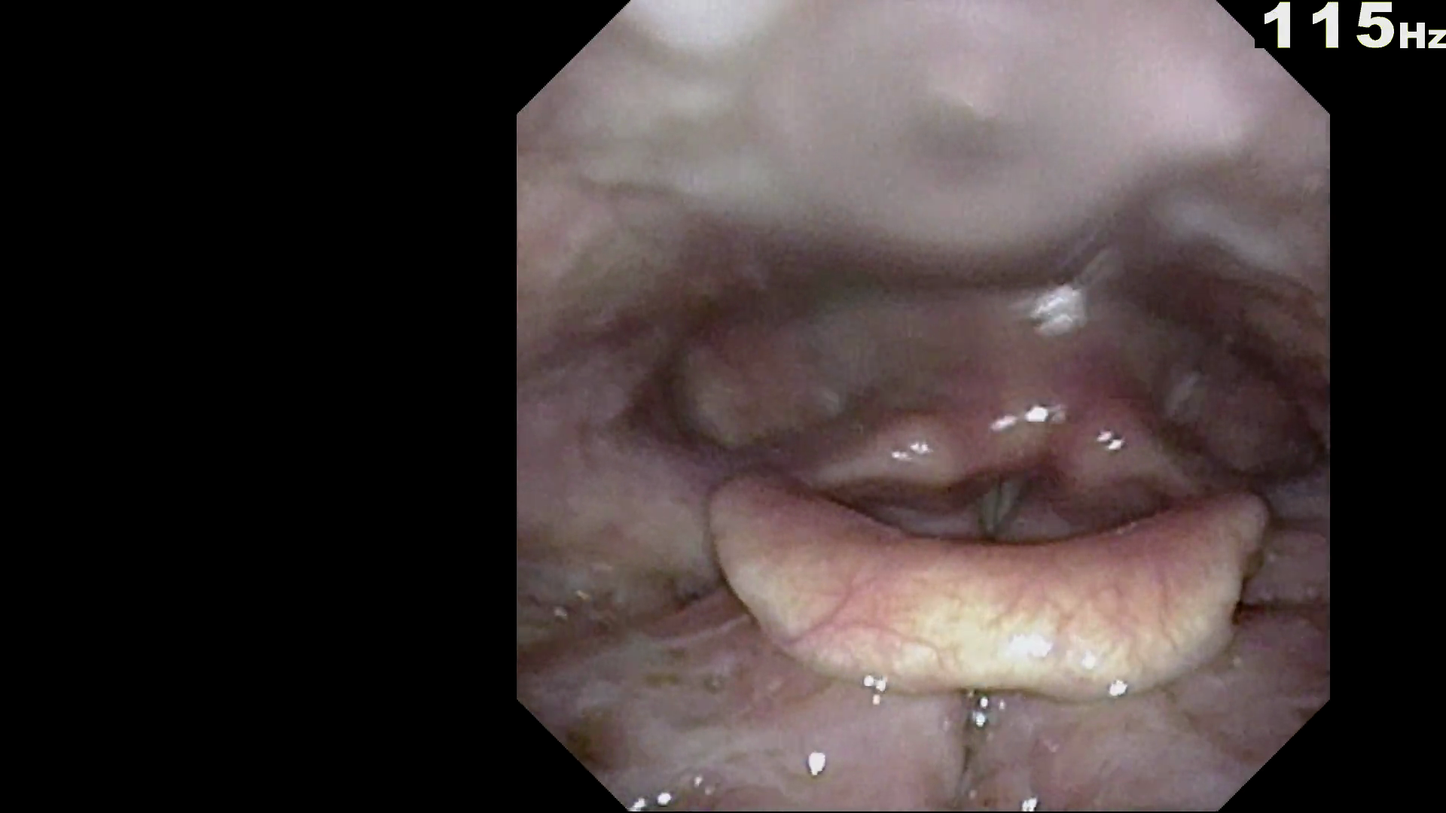epiglottis: (673, 511, 1282, 725)
trachea: (966, 470, 1045, 550)
